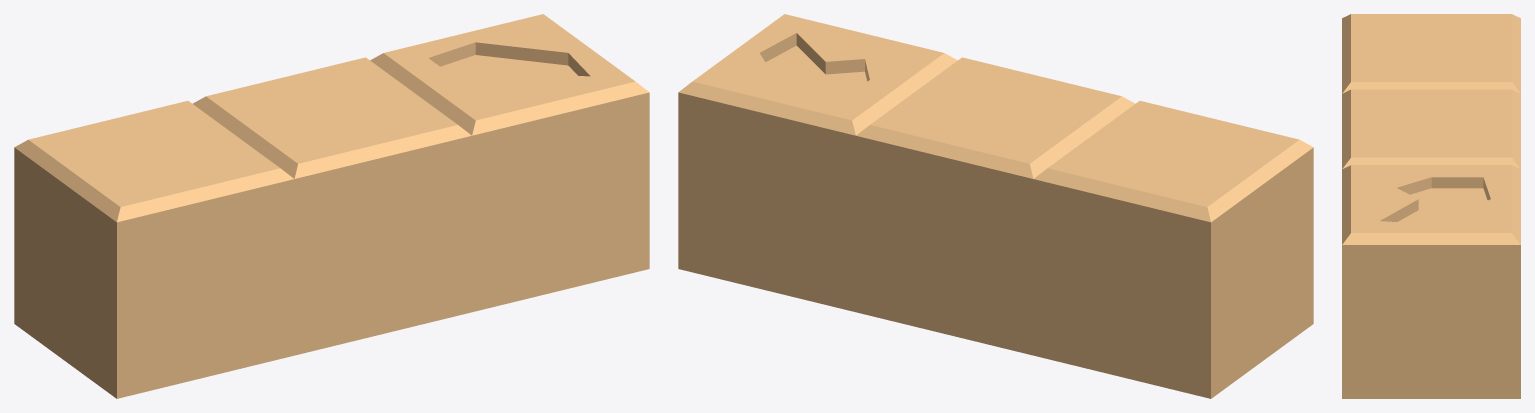
Rendered from 3x1Floor.fbx.
3 renders of one model, left to right at view 1: azimuth 30°, elevation 25°; view 2: azimuth 150°, elevation 25°; view 3: azimuth 270°, elevation 25°, orthographic. The views are drawn at different scales.
Parts seen in each view (by area): view 1: Cube; view 2: Cube; view 3: Cube.
Part boxes in pixels (<box>): Cube: <box>14,14,649,398</box>; Cube: <box>678,14,1313,398</box>; Cube: <box>1342,14,1520,398</box>.
Size of the model in its own units: 300 by 100 by 100.
